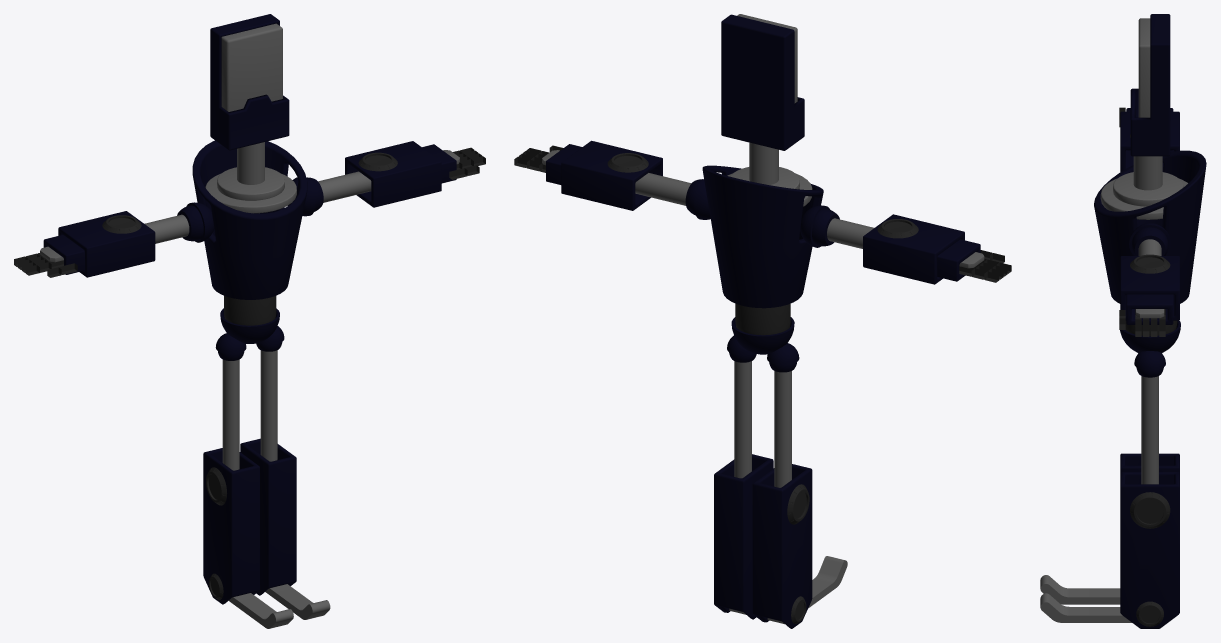
The model's file is Robô.fbx.
The picture shows the model from 3 angles, left to right: view 1: azimuth 30°, elevation 25°; view 2: azimuth 150°, elevation 25°; view 3: azimuth 270°, elevation 25°; orthographic projection. The views are drawn at different scales.
Parts seen in each view (by area): view 1: Cube.019, Cylinder, Cube.002, Cube, Cube.001, Cylinder.008, Cube.020, Cylinder.004, Cylinder.002, Cube.003, Cylinder.001, Cylinder.007 (+6 smaller); view 2: Cube.019, Cylinder, Cube, Cube.002, Cylinder.008, Cylinder.004, Cube.003, Cylinder.007, Cylinder.005, Cube.020, Cylinder.003, Sphere.002 (+4 smaller); view 3: Cube.019, Cylinder, Cube, Cube.002, Cube.020, Cylinder.008, Cylinder.002, Cube.001, Cylinder.009, Cube.003, Cylinder.003, Sphere.002 (+9 smaller).
Part boxes in pixels (x1,y1,x2,y2): Cube.019: [203, 438, 296, 604]; Cylinder: [192, 140, 307, 299]; Cube.002: [58, 141, 441, 277]; Cube: [210, 14, 289, 150]; Cube.001: [221, 23, 282, 111]; Cylinder.008: [222, 350, 277, 470]; Cube.020: [228, 584, 330, 628]; Cylinder.004: [144, 171, 371, 243]; Cylinder.002: [217, 167, 284, 200]; Cube.003: [43, 144, 456, 274]; Cylinder.001: [205, 173, 296, 213]; Cylinder.007: [224, 295, 276, 325]; Cube.019: [714, 454, 812, 628]; Cylinder: [702, 165, 823, 308]; Cube: [721, 14, 804, 150]; Cube.002: [561, 140, 964, 284]; Cylinder.008: [734, 361, 791, 487]; Cylinder.004: [635, 173, 873, 248]; Cube.003: [546, 144, 980, 281]; Cylinder.007: [735, 303, 790, 335]; Cylinder.005: [607, 153, 918, 238]; Cube.020: [729, 556, 847, 624]; Cylinder.003: [749, 142, 778, 184]; Sphere.002: [731, 317, 794, 354]; Cube.019: [1120, 453, 1179, 628]; Cylinder: [1094, 150, 1206, 303]; Cube: [1130, 14, 1170, 156]; Cube.002: [1120, 111, 1179, 320]; Cube.020: [1040, 575, 1131, 622]; Cylinder.008: [1141, 376, 1158, 484]; Cylinder.002: [1113, 172, 1183, 206]; Cube.001: [1138, 18, 1150, 117]; Cylinder.009: [1130, 492, 1170, 528]; Cube.003: [1126, 108, 1173, 324]; Cylinder.003: [1133, 156, 1162, 190]; Sphere.002: [1120, 320, 1180, 352].
Size of the model in its own units: 2.23 by 2.64 by 0.6803.
